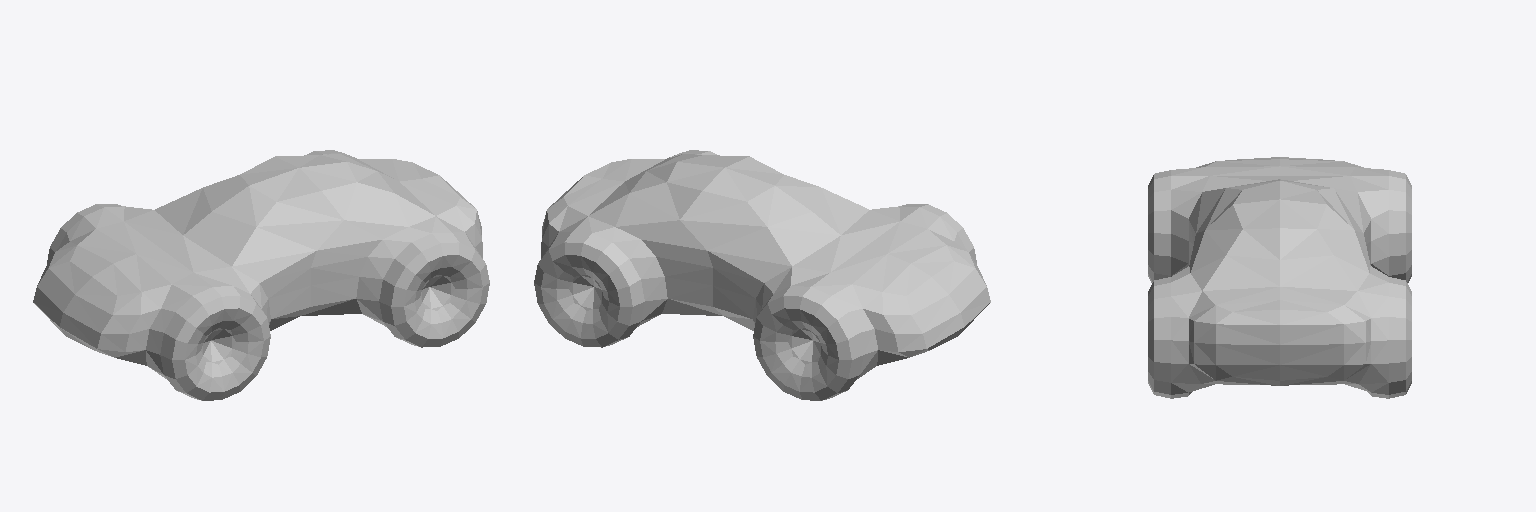
File: car.obj
The picture shows the model from 3 angles: view 1: azimuth 30°, elevation 25°; view 2: azimuth 150°, elevation 25°; view 3: azimuth 270°, elevation 25°; orthographic projection.
Parts seen in each view (by area): view 1: FunkyCar; view 2: FunkyCar; view 3: FunkyCar.
Part boxes in pixels (x1,y1,x2,y2): FunkyCar: (33,150,489,400); FunkyCar: (534,150,990,400); FunkyCar: (1148,157,1411,398).
Size of the model in its own units: 4.51 by 1.7 by 2.61.